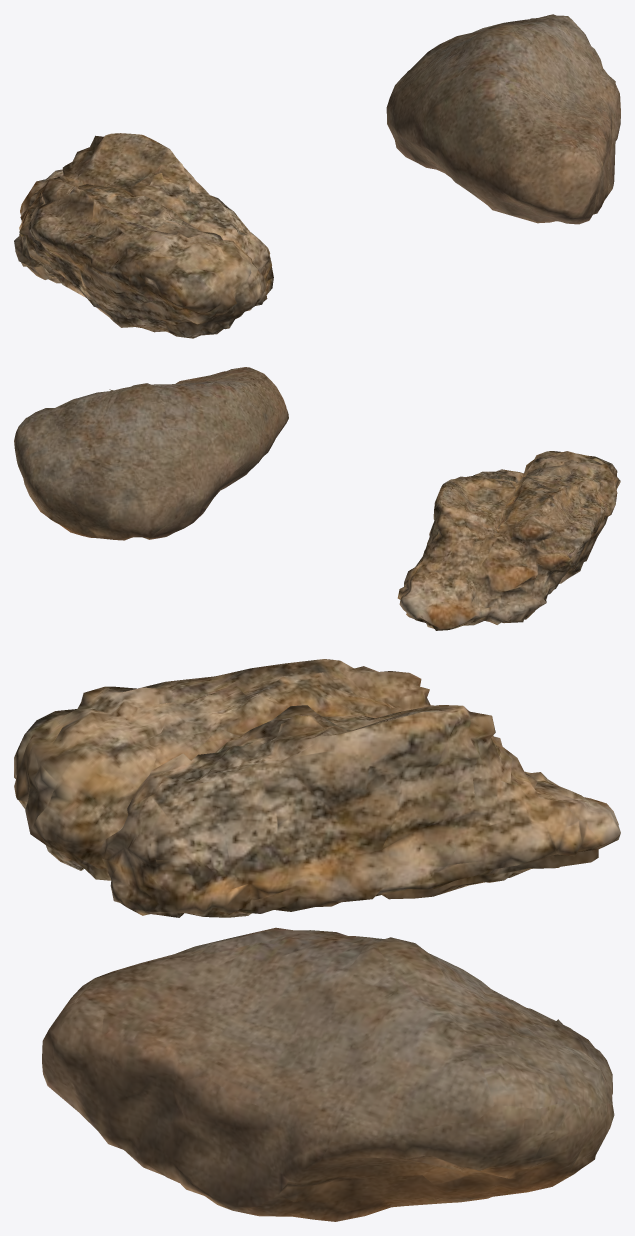
File: namaqualand_boulders_01.glb
3 renders of one model, top to bottom at view 1: azimuth 30°, elevation 25°; view 2: azimuth 150°, elevation 25°; view 3: azimuth 270°, elevation 25°, orthographic. The views are drawn at different scales.
Parts seen in each view (by area): view 1: namaqualand_rocks_01_a, namaqualand_rocks_01_b; view 2: namaqualand_rocks_01_a, namaqualand_rocks_01_b; view 3: namaqualand_rocks_01_a, namaqualand_rocks_01_b.
Boxes of the visible parts, x1,y1,x2,y2 form: namaqualand_rocks_01_a: (386,14,620,224); namaqualand_rocks_01_b: (14,133,273,338); namaqualand_rocks_01_a: (14,367,288,540); namaqualand_rocks_01_b: (397,451,620,630); namaqualand_rocks_01_a: (42,927,614,1221); namaqualand_rocks_01_b: (14,659,620,917).
Bounding box in the file's own units: 1.06 × 0.2512 × 0.5838.
Materials: 1 (1 with a texture image).
